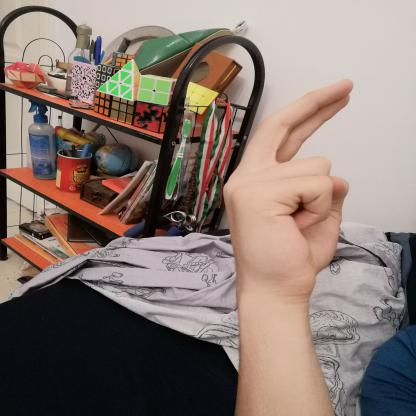ZAY: (213, 67, 364, 301)
